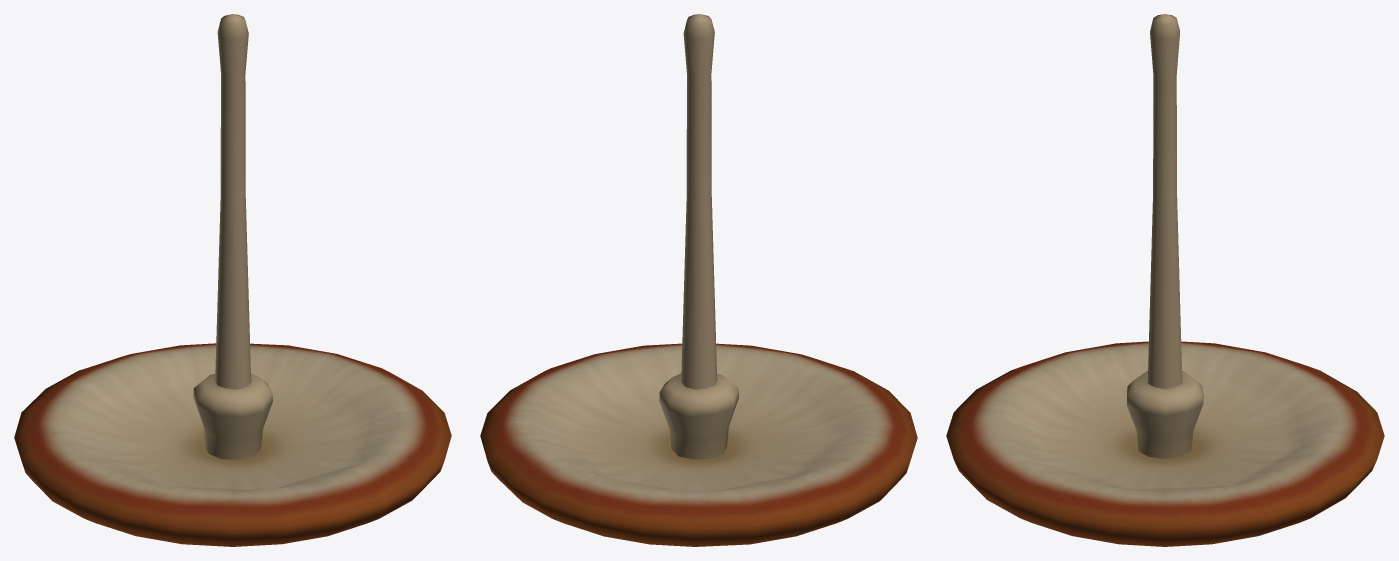
Rendered from UmbrellaMushroom0.glb.
3 views of the same model, side by side, from view 1: azimuth 30°, elevation 25°; view 2: azimuth 150°, elevation 25°; view 3: azimuth 270°, elevation 25° (orthographic).
Parts seen in each view (by area): view 1: Body__mUmbrella; view 2: Body__mUmbrella; view 3: Body__mUmbrella.
Boxes of the visible parts, bbox=[...] form: Body__mUmbrella: bbox=[14, 14, 451, 546]; Body__mUmbrella: bbox=[480, 14, 917, 546]; Body__mUmbrella: bbox=[946, 14, 1384, 546].
Size of the model in its own units: 13.49 by 16.72 by 13.55.
Materials: 1 (1 with a texture image).
